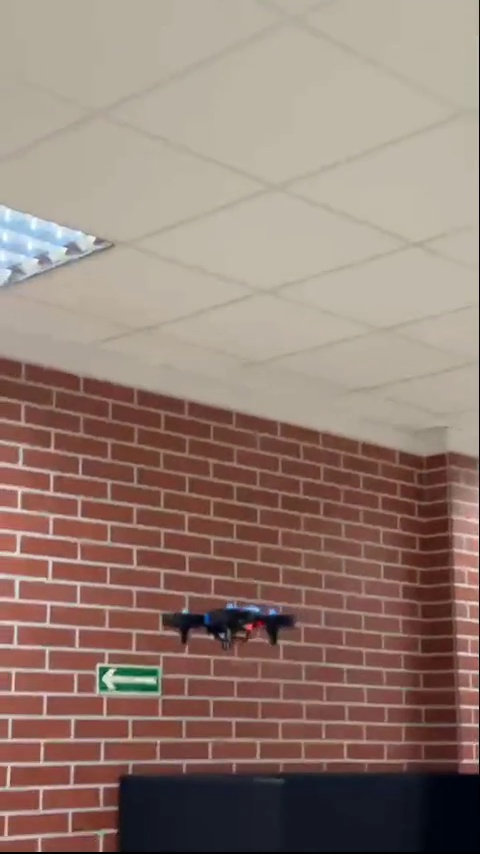drone: (164, 605, 293, 646)
